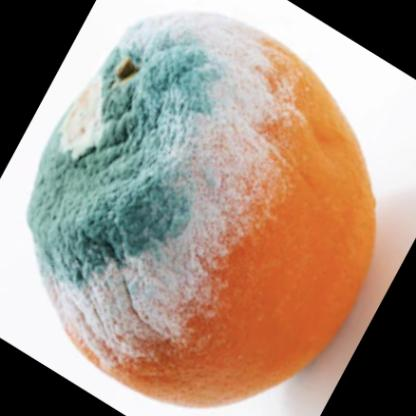rotten: (30, 18, 378, 402)
